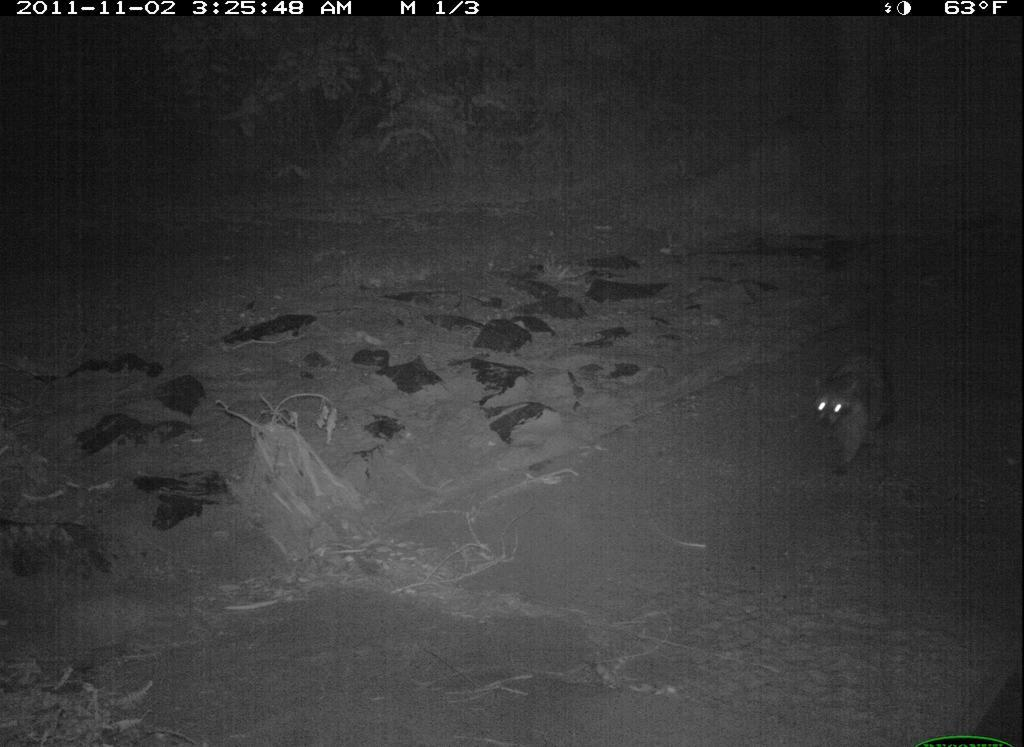raccoon: (808, 341, 905, 464)
